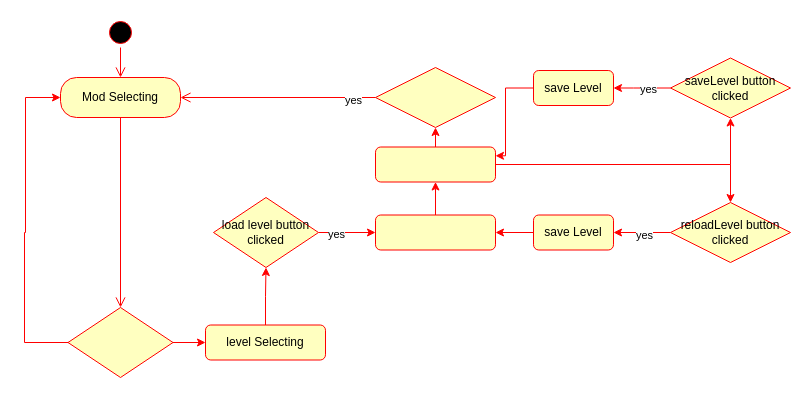
The diagram is 808 pixels wide and 395 high, and some of its shapes have lost their labels. The centre of each missing label's shape, as x and y in pixels:
"EditingLevel" belongs at point (435, 164).
"level loading" belongs at point (435, 232).
"Levels found in mod directory" belongs at point (120, 342).
"newLevel button clicked" belongs at point (435, 97).
